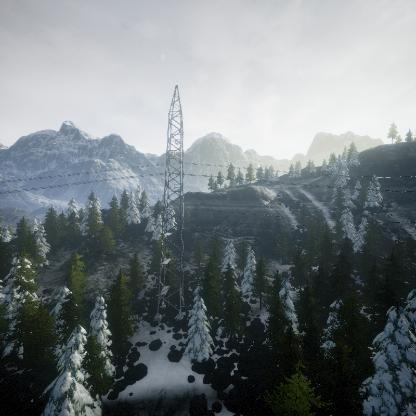tower: (151, 88, 189, 325)
